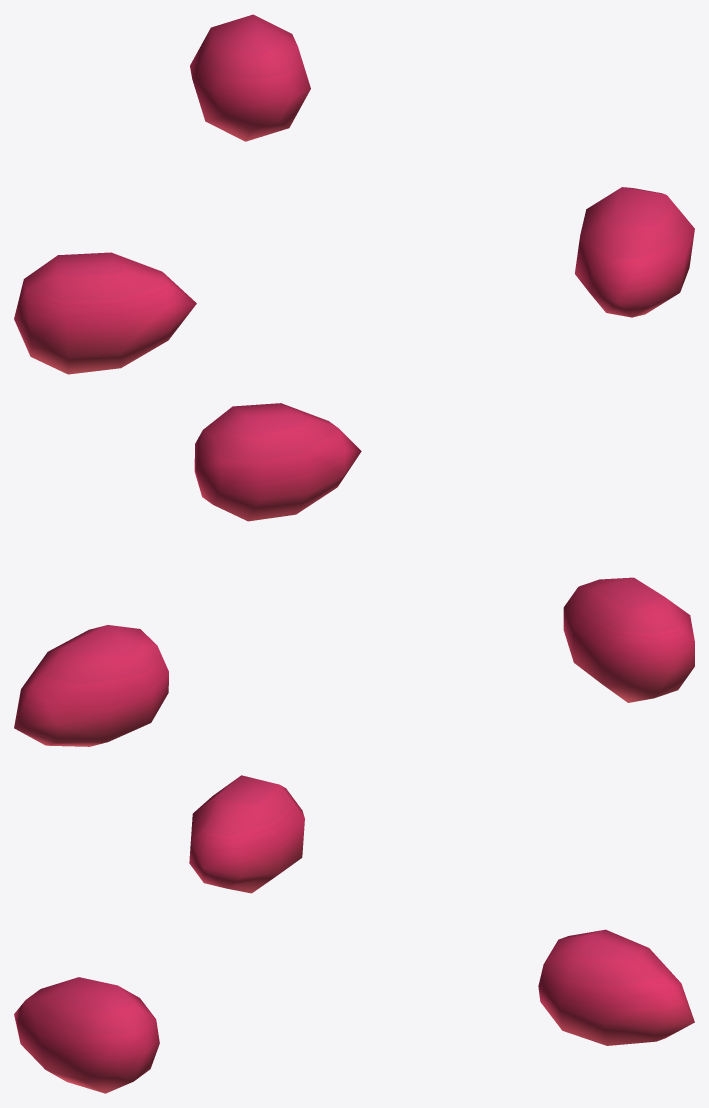
Rendered from sweetpotato_seed.glb.
3 renders of one model, top to bottom at view 1: azimuth 30°, elevation 25°; view 2: azimuth 150°, elevation 25°; view 3: azimuth 270°, elevation 25°, orthographic. The views are drawn at different scales.
Visible parts, largest first — view 1: SM_SweetPotato_Seed2; view 2: SM_SweetPotato_Seed2; view 3: SM_SweetPotato_Seed2.
Part boxes in pixels (<box>): SM_SweetPotato_Seed2: <box>14,14,694,374</box>; SM_SweetPotato_Seed2: <box>14,403,694,746</box>; SM_SweetPotato_Seed2: <box>14,775,694,1093</box>.
Bounding box in the file's own units: 0.2148 × 0.0411 × 0.2347.
1 material, 1 textured.
